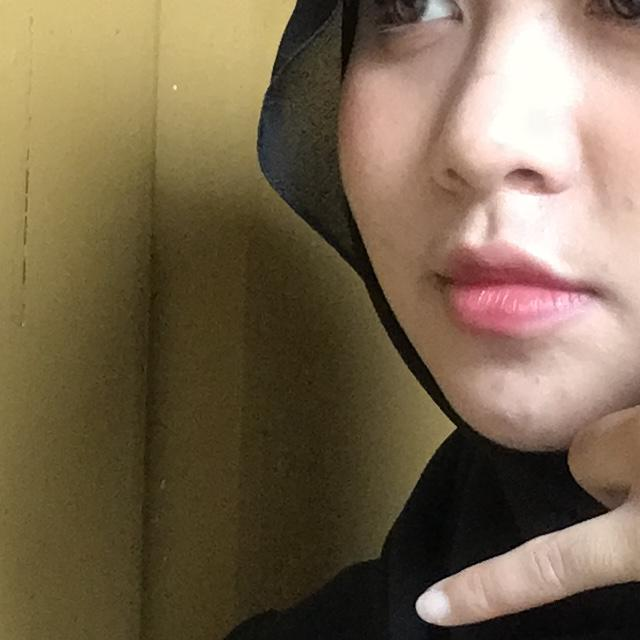telpon: (350, 46, 640, 640)
